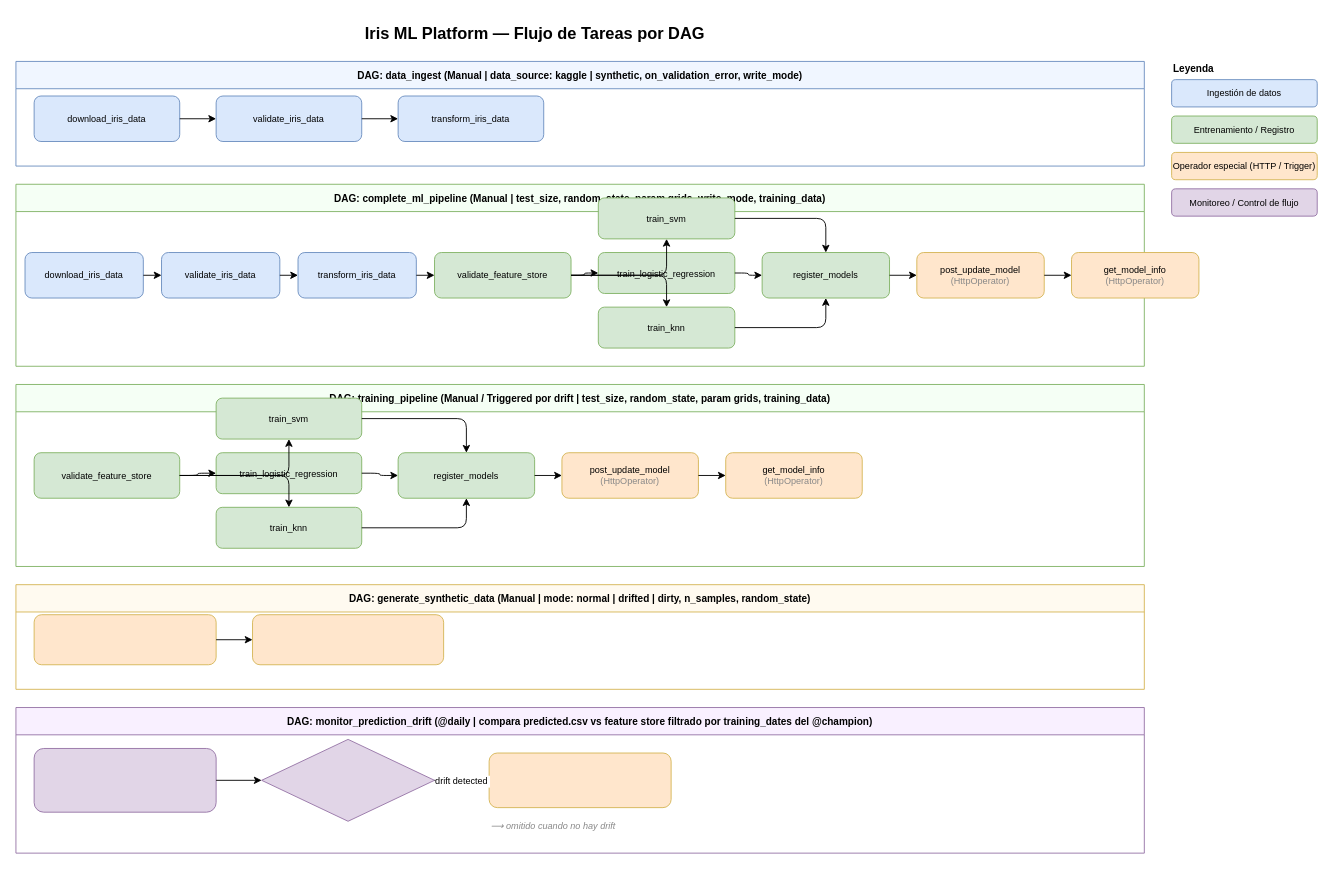
The diagram is 1333 pixels wide and 869 high, and some of its shapes have lost their labels. The centre of each missing label's shape, as x and y in pixels:
"detect_prediction_drift KS test (KS alpha=0.05) Requiere ≥30 filas" belongs at point (124, 780).
"generate_and_save (genera simulated.csv)" belongs at point (124, 639).
"send_predictions_to_api (POST /predict filas válidas)" belongs at point (348, 639).
"should_retrain ShortCircuitOperator (salta si no hay drift)" belongs at point (348, 779).
"trigger_training_pipeline TriggerDagRunOperator" belongs at point (579, 780).
